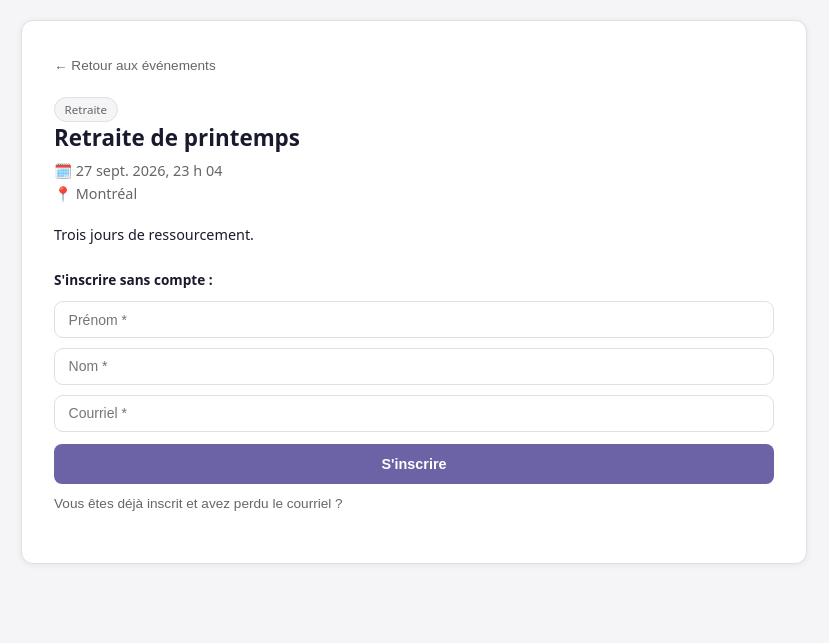
Scenario: EventDetailPage — inscription d'un invité › remonte l'erreur du serveur
Expected: the heading "Retraite de printemps" is shown, left=54, top=122, right=300, bottom=153
In the field with placeholder "Prénom *": (414, 320) left=54, top=301, right=774, bottom=338, type "Marie"
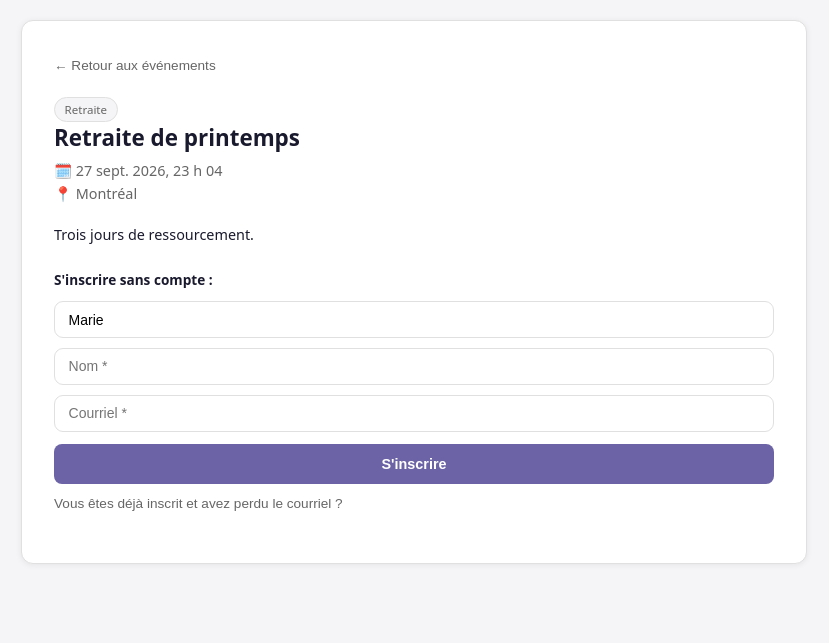
In the field with placeholder "Nom *": (414, 366) left=54, top=348, right=774, bottom=385, type "Dupont"
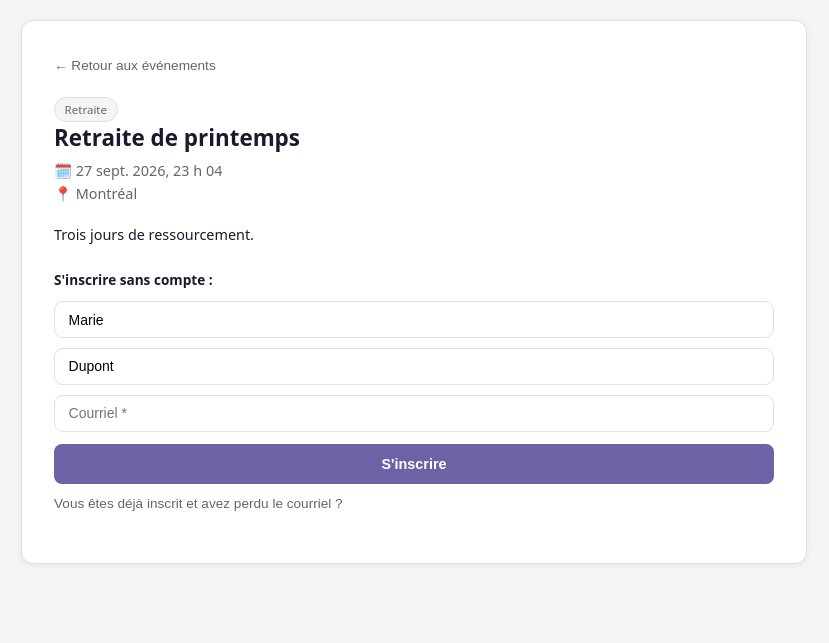
In the field with placeholder "Courriel *": (414, 413) left=54, top=395, right=774, bottom=432, type "marie@exemple.com"
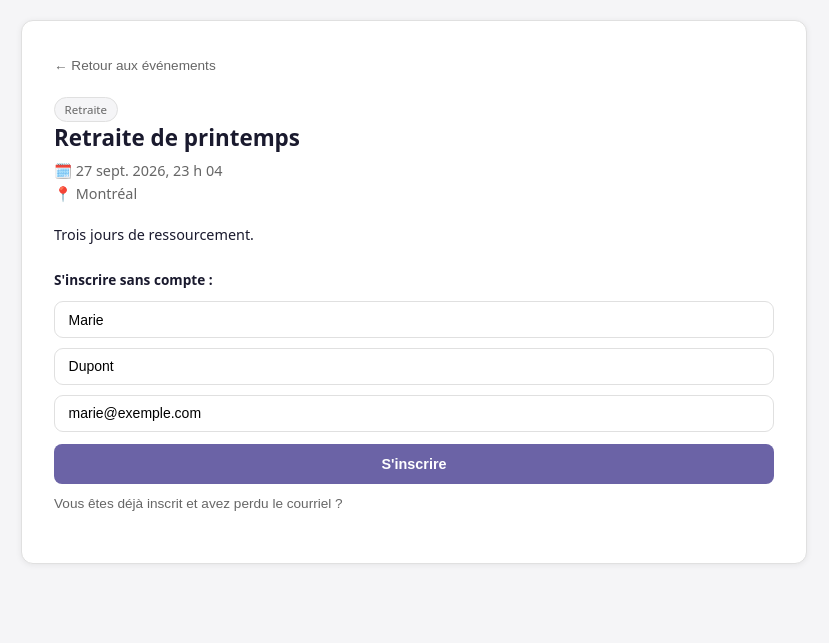
Click the button "S'inscrire": (414, 464) left=54, top=444, right=774, bottom=484
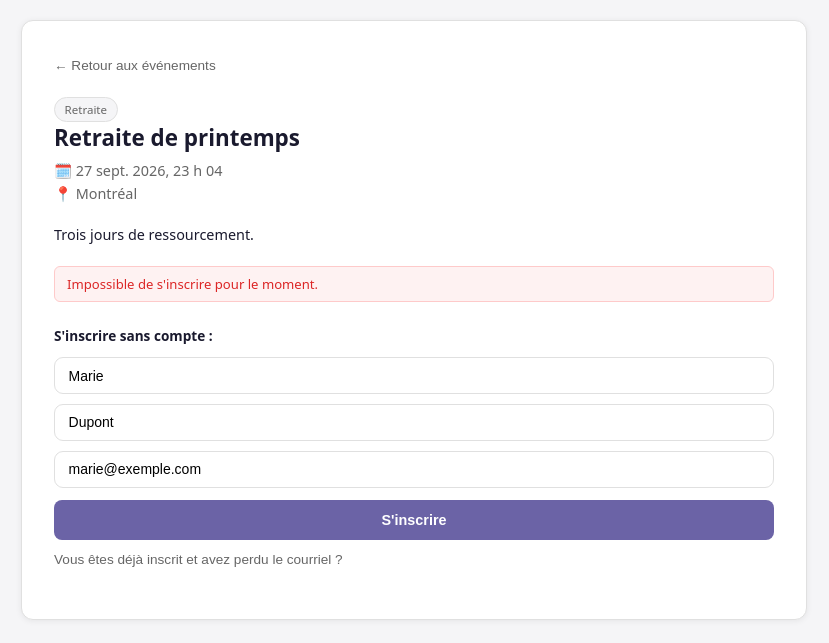
Now the message "Impossible de s'inscrire pour le moment." is shown, box left=54, top=266, right=774, bottom=302
